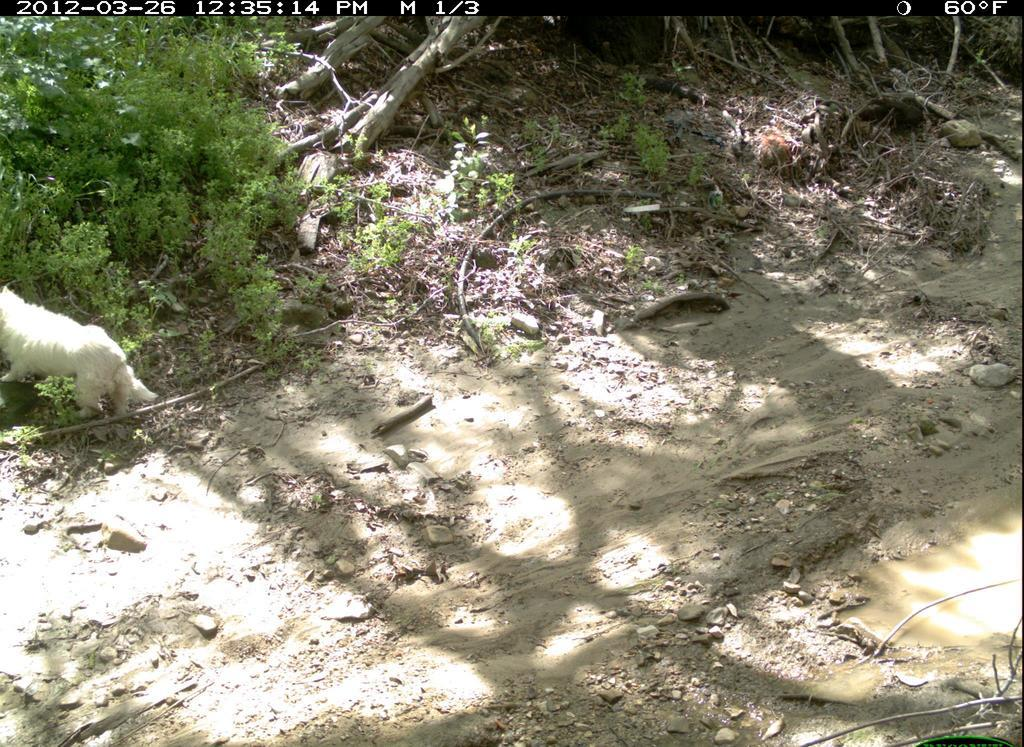dog: (1, 268, 163, 434)
